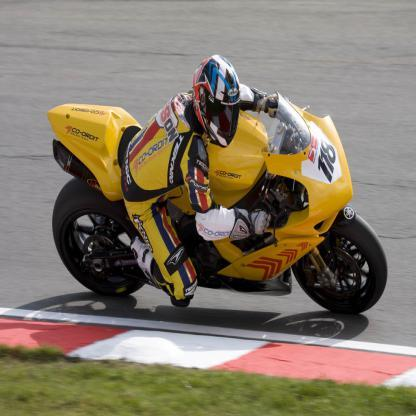motorcycle: (52, 83, 367, 317)
